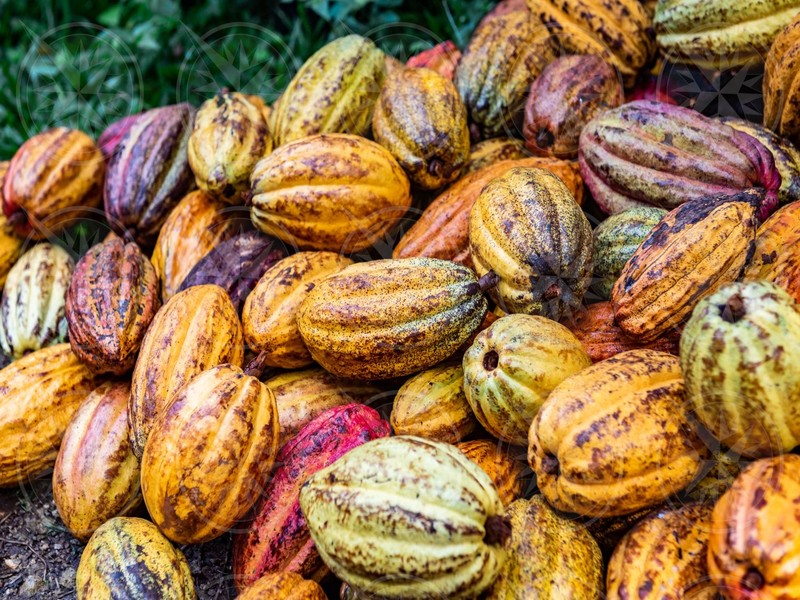Cacaopod: (143, 342, 280, 544), (300, 254, 491, 379), (251, 131, 411, 252)
